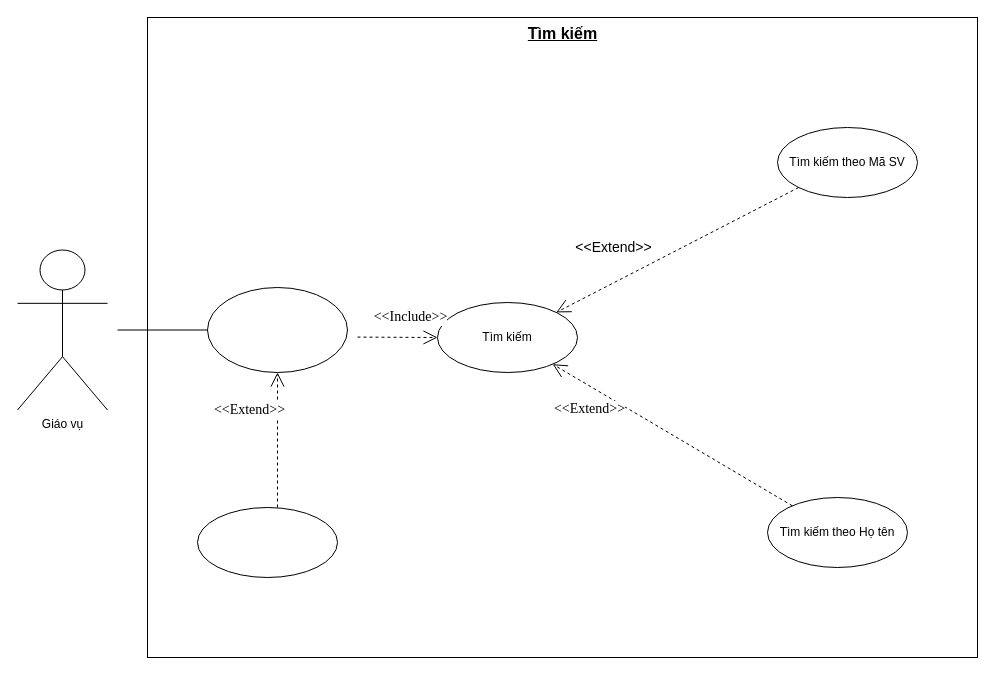
This 995x675 diagram has some shape labels left out. Each missing label, with the centre of its shape:
"Đăng nhập" goes at (277,329).
"Đăng xuất" goes at (267,542).
